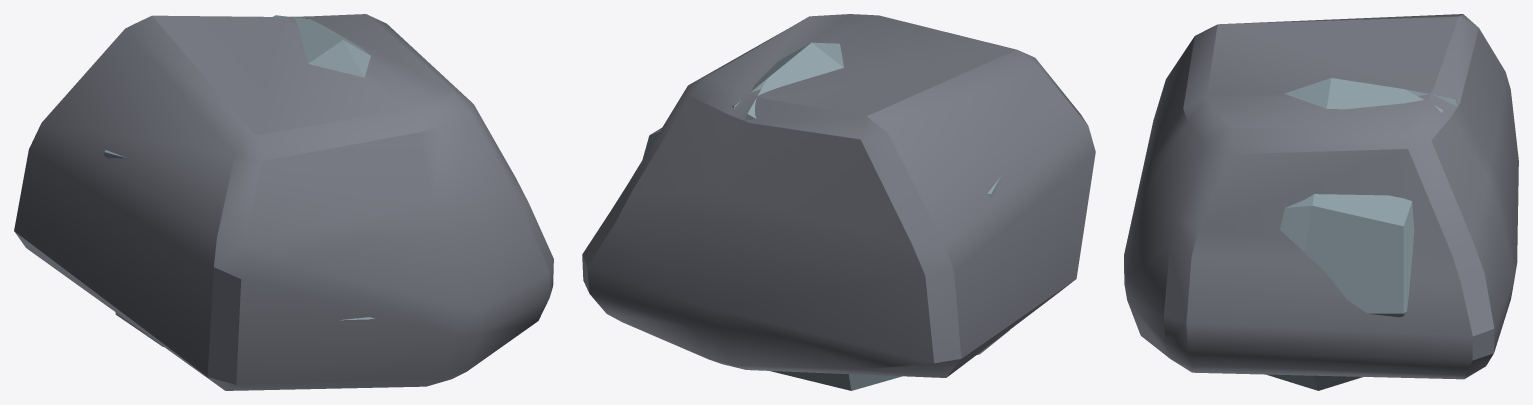
Rendered from rockAmmo.glb.
The picture shows the model from 3 angles, left to right: view 1: azimuth 30°, elevation 25°; view 2: azimuth 150°, elevation 25°; view 3: azimuth 270°, elevation 25°; orthographic projection. The views are drawn at different scales.
Visible parts, largest first — view 1: Rock_1, Rock_2; view 2: Rock_1, Rock_2; view 3: Rock_1, Rock_2.
Part boxes in pixels (<box>): Rock_1: <box>14,14,553,390</box>; Rock_2: <box>104,15,374,346</box>; Rock_1: <box>582,14,1095,377</box>; Rock_2: <box>642,42,1009,390</box>; Rock_1: <box>1124,14,1518,379</box>; Rock_2: <box>1266,78,1457,390</box>.
Size of the model in its own units: 1.6 by 1.22 by 1.46.
